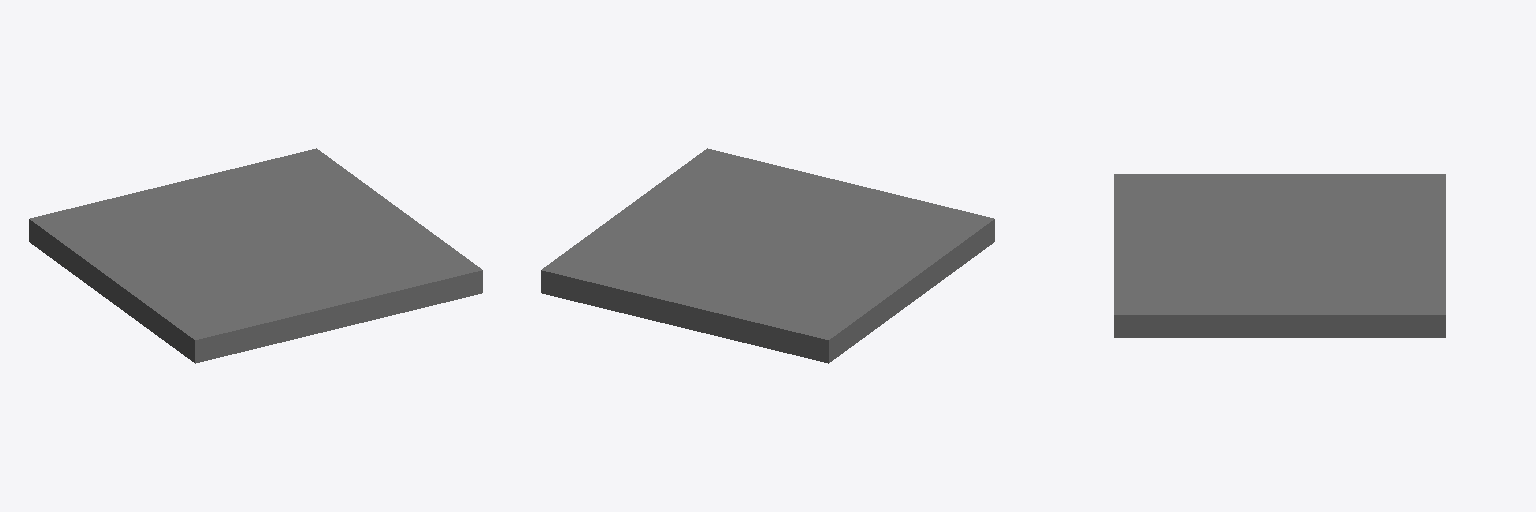
The model's file is Land_Tile_Flat.obj.
3 renders of one model, left to right at view 1: azimuth 30°, elevation 25°; view 2: azimuth 150°, elevation 25°; view 3: azimuth 270°, elevation 25°, orthographic.
Visible parts, largest first — view 1: pCube41; view 2: pCube41; view 3: pCube41.
Boxes of the visible parts, x1=… form: pCube41: x1=29, y1=148, x2=482, y2=363; pCube41: x1=541, y1=148, x2=994, y2=363; pCube41: x1=1114, y1=174, x2=1445, y2=337.
Size of the model in its own units: 427 by 32.81 by 427.